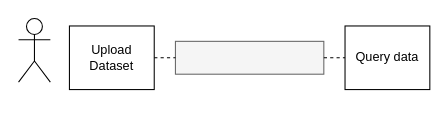
Image size: 448x123. Some labels were removed from this diagram. Here are the shapes that lost their labels. From the top down, the centre of each, then its label:
(33,49): User
(249,57): Wait for crawler to finish
